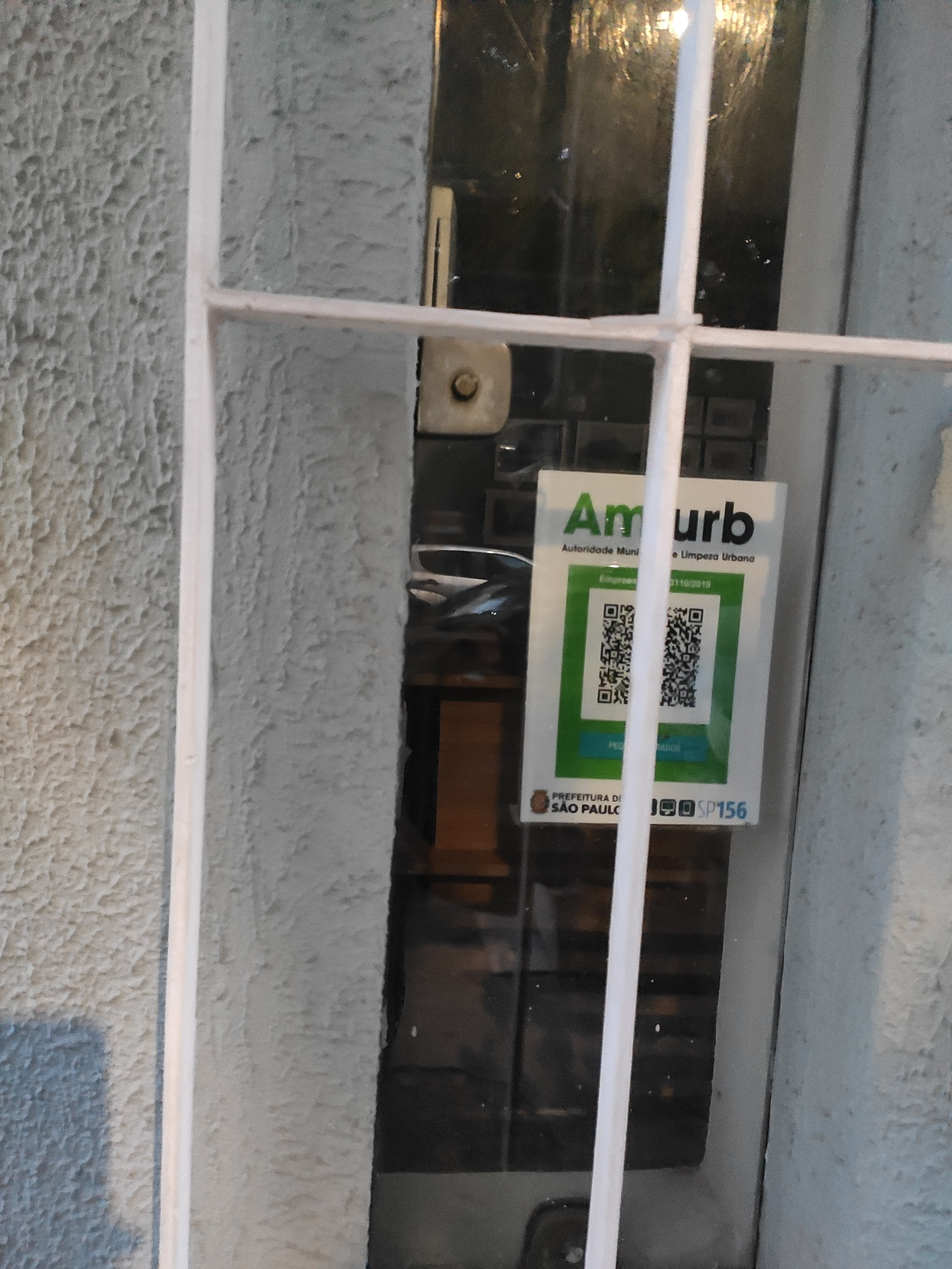QR-CODE: (597, 604, 703, 708)
